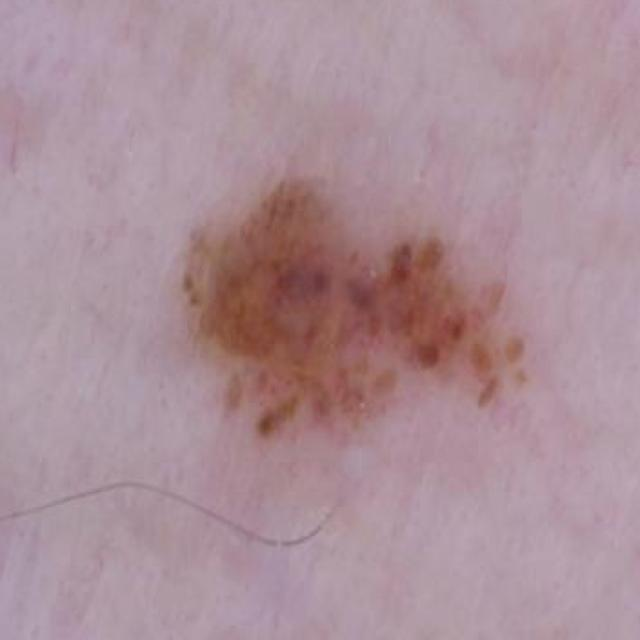NV: (176, 168, 543, 481)
